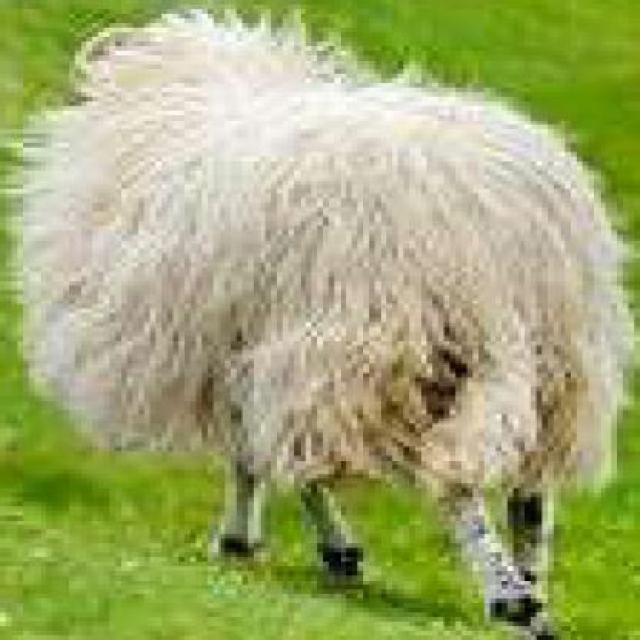Sheep: (6, 4, 634, 636)
